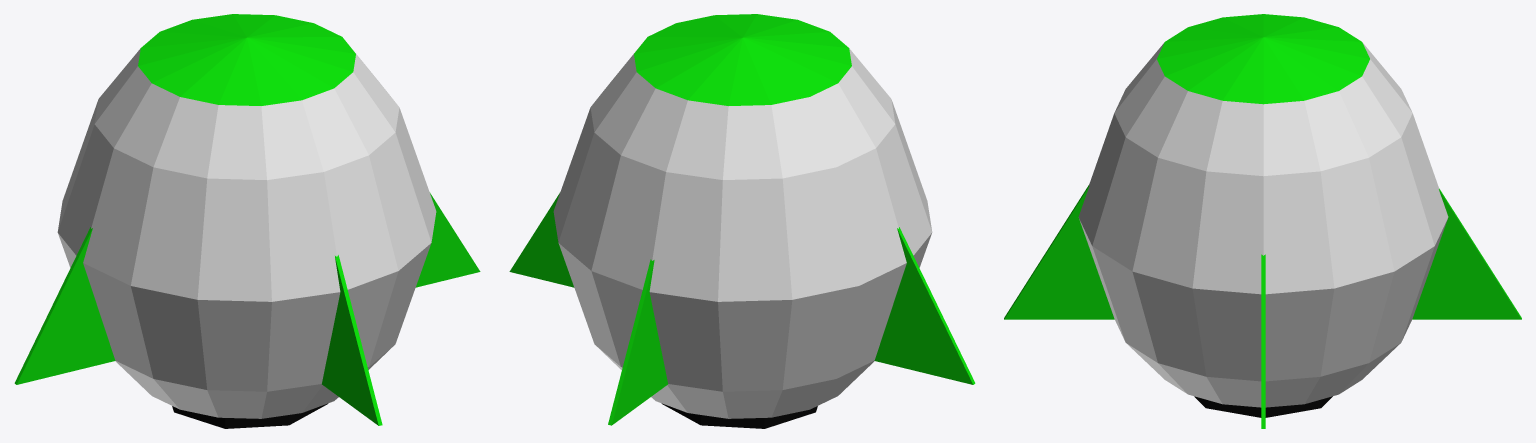
Rendered from green_rocket.glb.
The picture shows the model from 3 angles, left to right: view 1: azimuth 30°, elevation 25°; view 2: azimuth 150°, elevation 25°; view 3: azimuth 270°, elevation 25°; orthographic projection. The views are drawn at different scales.
Visible parts, largest first — view 1: Cylinder, Cylinder.004, Cylinder.005; view 2: Cylinder, Cylinder.004, Cylinder.005; view 3: Cylinder, Cylinder.004, Cylinder.005.
Boxes of the visible parts, x1,y1,x2,y2 form: Cylinder: [57, 14, 436, 418]; Cylinder.004: [14, 193, 480, 425]; Cylinder.005: [172, 403, 328, 428]; Cylinder: [553, 14, 932, 418]; Cylinder.004: [509, 193, 975, 425]; Cylinder.005: [661, 403, 817, 428]; Cylinder: [1078, 14, 1448, 407]; Cylinder.004: [1004, 185, 1521, 428]; Cylinder.005: [1194, 396, 1332, 417].
Size of the model in its own units: 3.21 by 2.44 by 3.2.
